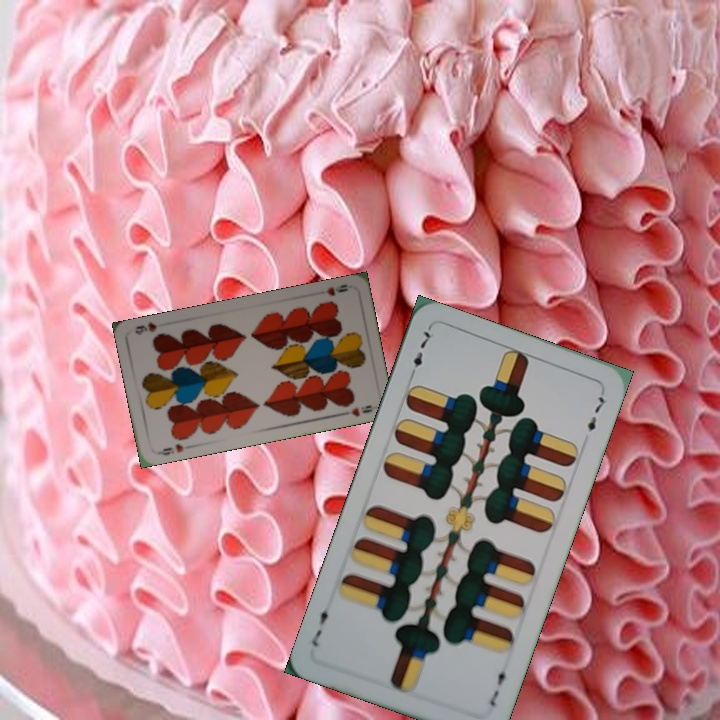E7: (408, 325, 433, 382), (485, 661, 511, 709)
H9: (153, 440, 186, 458), (322, 280, 350, 298)
